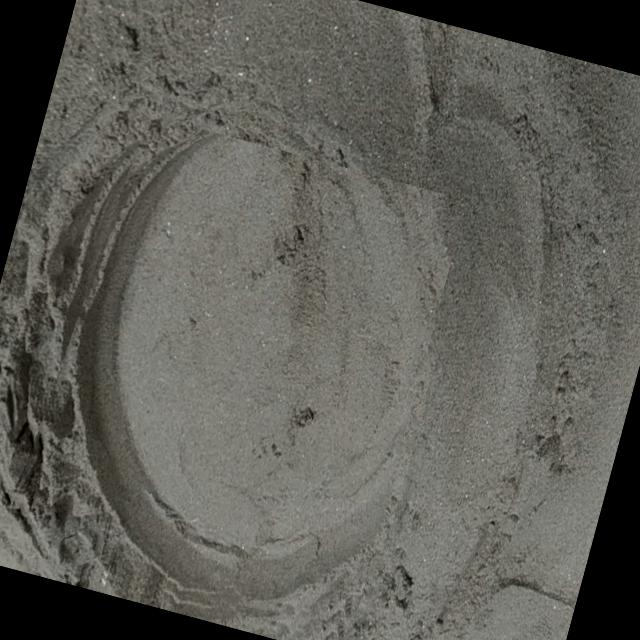C40: (71, 130, 422, 609)
